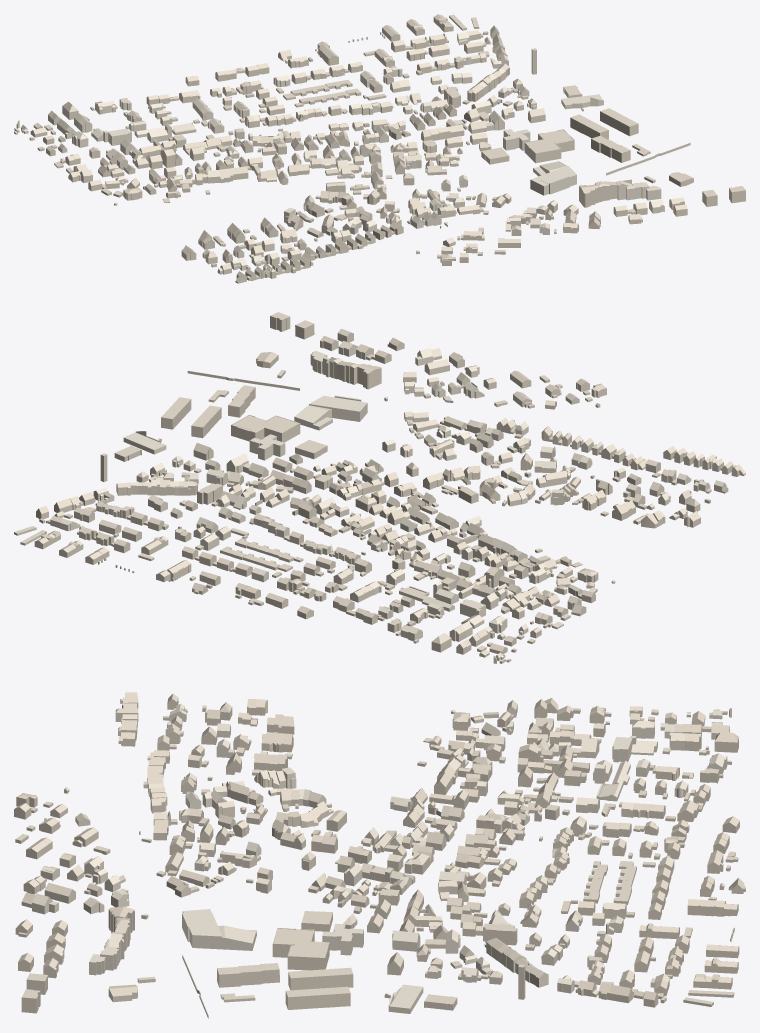
3 renders of one model, top to bottom at view 1: azimuth 30°, elevation 25°; view 2: azimuth 150°, elevation 25°; view 3: azimuth 270°, elevation 25°, orthographic. The views are drawn at different scales.
Size of the model in its own units: 651 by 36.55 by 623.
